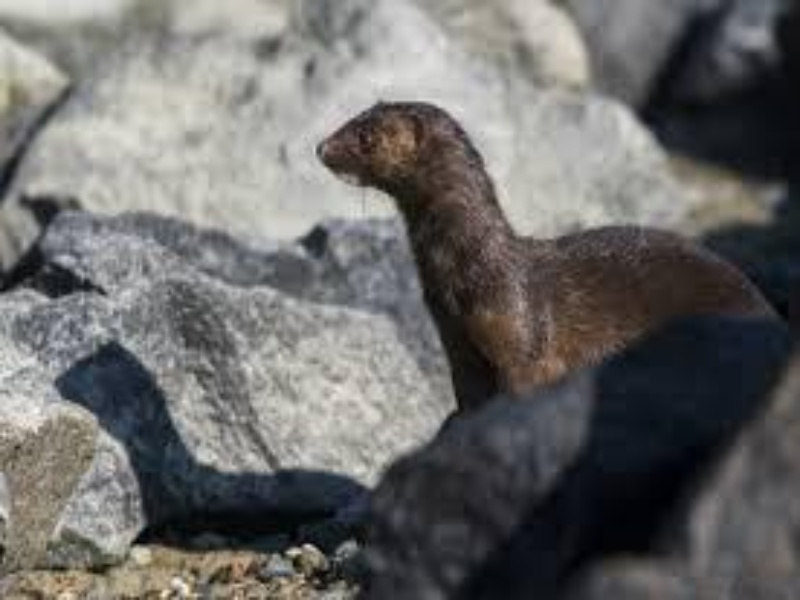minkish: (311, 96, 784, 462)
